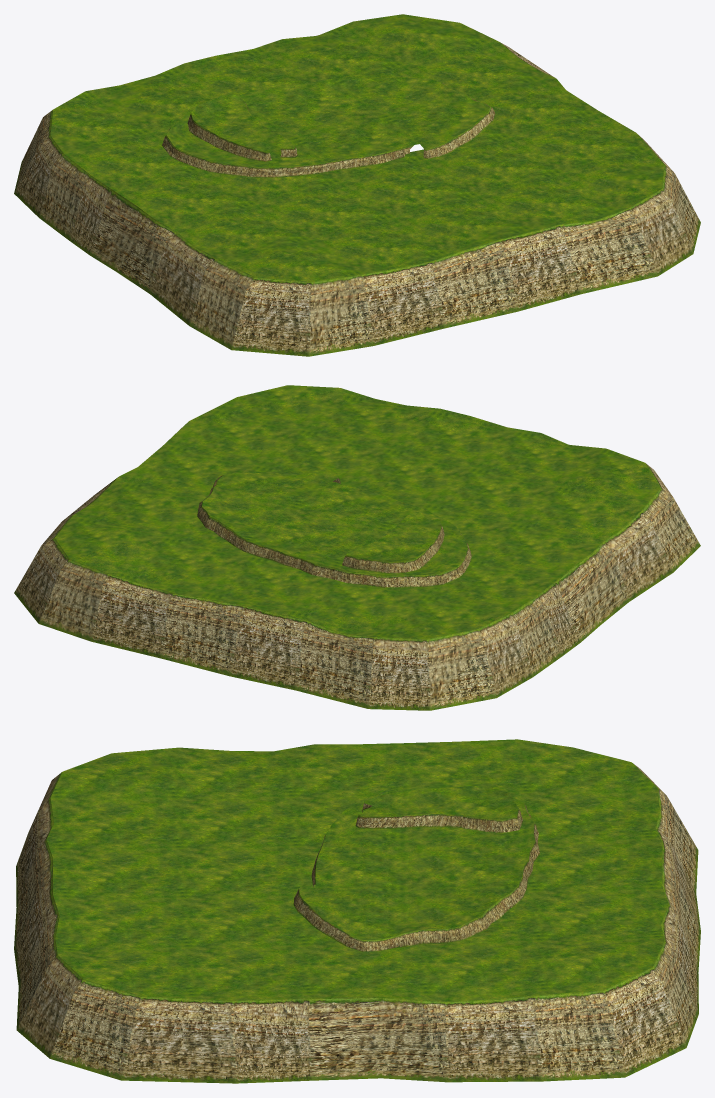
File: rd_island1.glb
The picture shows the model from 3 angles, top to bottom: view 1: azimuth 30°, elevation 25°; view 2: azimuth 150°, elevation 25°; view 3: azimuth 270°, elevation 25°; orthographic projection. The views are drawn at different scales.
Parts seen in each view (by area): view 1: rd_island1-col; view 2: rd_island1-col; view 3: rd_island1-col.
Part boxes in pixels (bbox=[...]): rd_island1-col: bbox=[14, 14, 700, 356]; rd_island1-col: bbox=[14, 385, 700, 710]; rd_island1-col: bbox=[14, 739, 700, 1083].
Bounding box in the file's own units: 183 × 27.72 × 185.
Materials: 4 (4 with a texture image).
